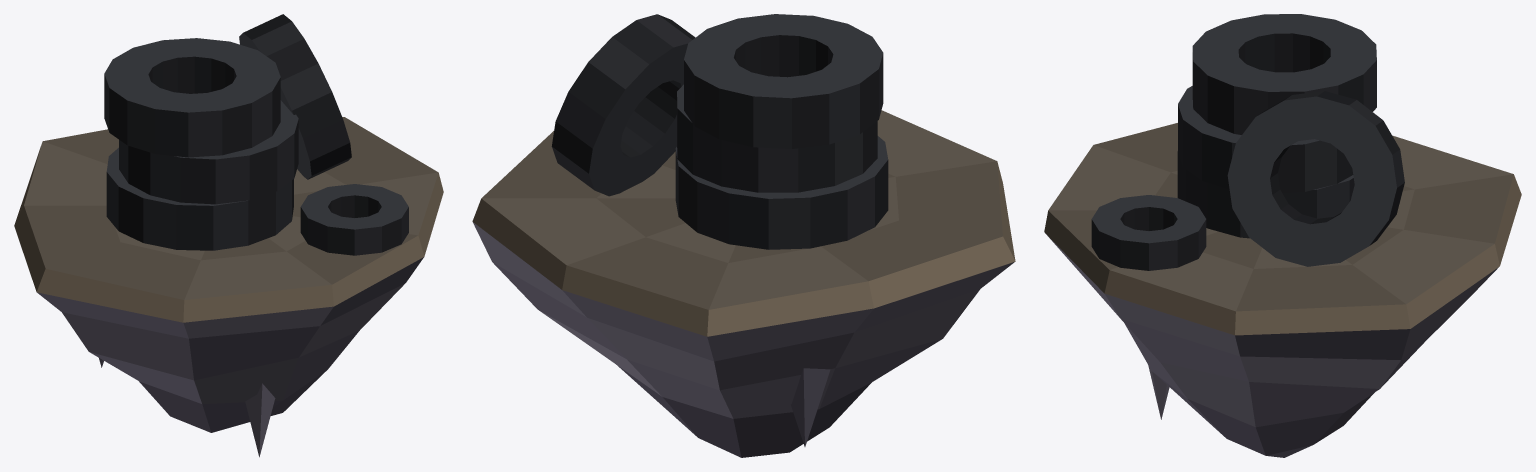
The model's file is tire_stack.glb.
3 renders of one model, left to right at view 1: azimuth 30°, elevation 25°; view 2: azimuth 150°, elevation 25°; view 3: azimuth 270°, elevation 25°, orthographic. The views are drawn at different scales.
Parts seen in each view (by area): view 1: Rock, Tires; view 2: Rock, Tires; view 3: Rock, Tires.
Part boxes in pixels (x1,y1,x2,y2): Rock: [14, 117, 443, 457]; Tires: [104, 14, 408, 255]; Rock: [472, 110, 1015, 457]; Tires: [551, 14, 888, 249]; Rock: [1044, 123, 1521, 457]; Tires: [1091, 14, 1404, 270].
Size of the model in its own units: 5.23 by 4.58 by 5.
